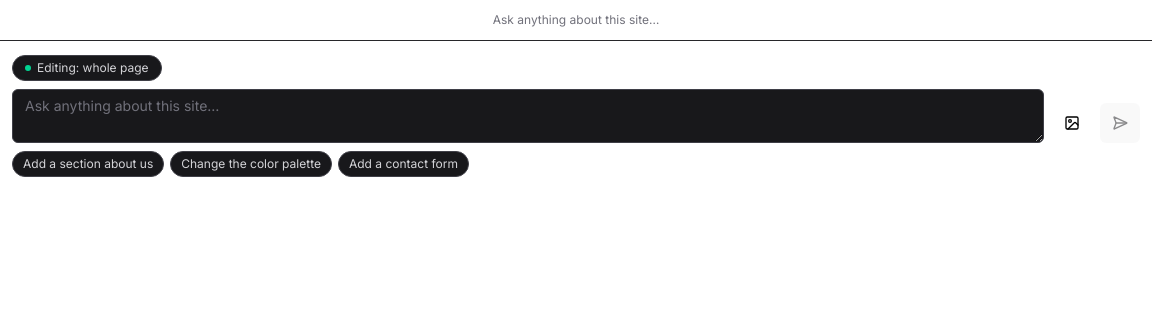
Test case: RightSidebarAiChat › fetch rejection (no network) surfaces as a network_error message
This screenshot has width=1152, height=334.
Type "offline" into the text box with test id "composer-textarea" at point(528, 116), box [12,89,1044,143]
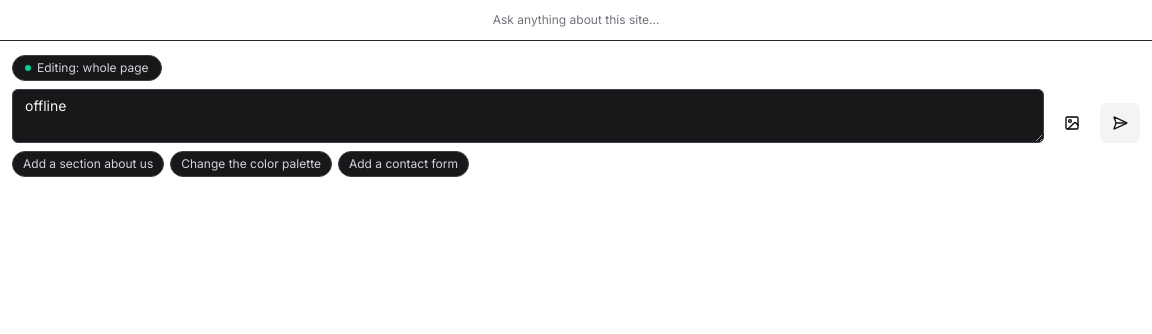
Click the button named "Send" at point(1120, 123), box [1100,103,1140,143]
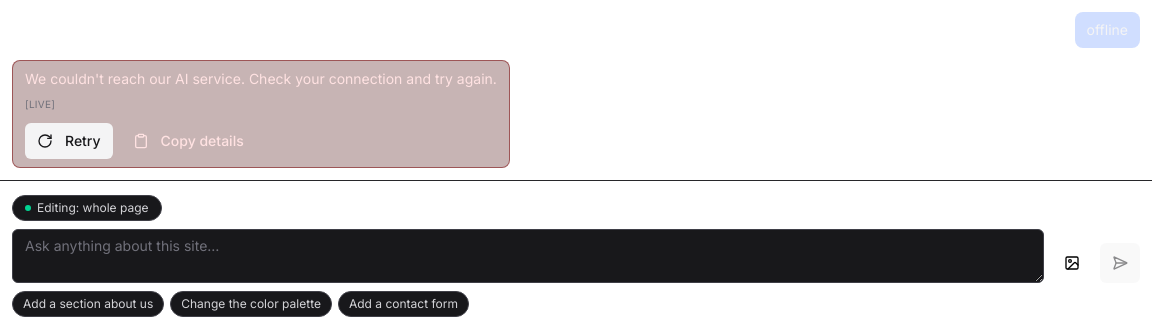
Expected: the text box with test id "composer-textarea" is shown, [12,229,1044,283]
Now the element with test id "assistant-error" is shown, box [12,60,510,168]
